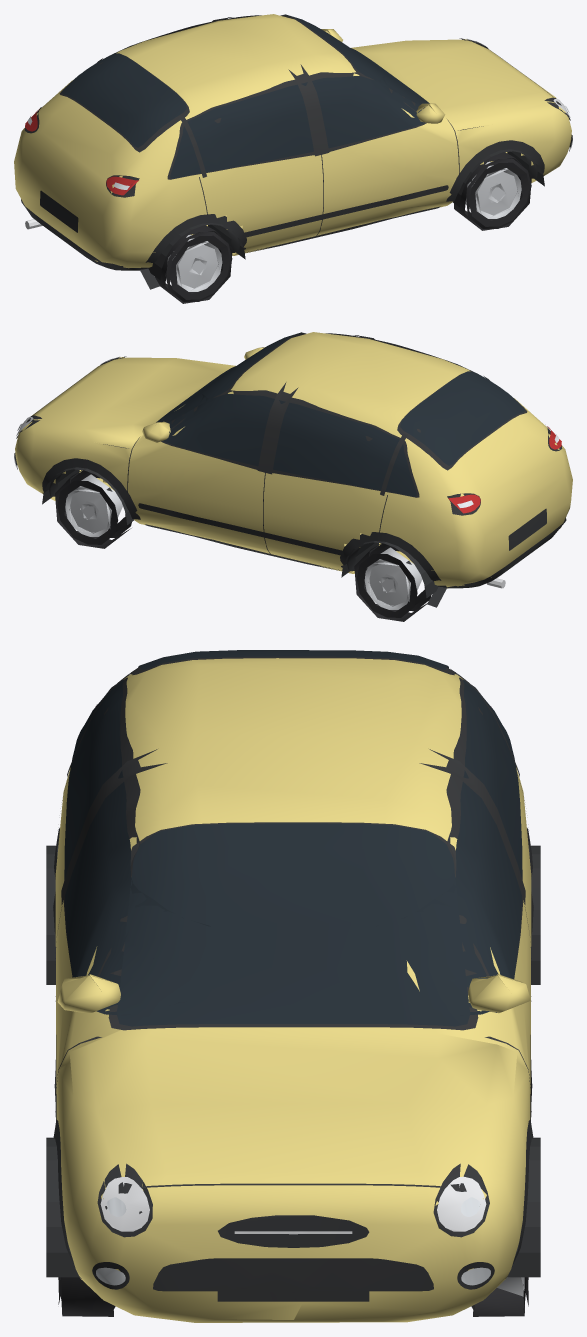
File: mistral_far.glb
The picture shows the model from 3 angles, top to bottom: view 1: azimuth 30°, elevation 25°; view 2: azimuth 150°, elevation 25°; view 3: azimuth 270°, elevation 25°; orthographic projection. The views are drawn at different scales.
Parts seen in each view (by area): view 1: Body, Glass-1, RearGlass, WheelFR, WheelRR, Windshield, WinFrame-1, ArchTrim-1.001, ArchTrim-1, Bpillar-1, Rub-1, ArchLiner.003 (+7 smaller); view 2: Body, Glass1, RearGlass, WheelFL, WheelRL, Windshield, WinFrame1, ArchTrim1.001, ArchTrim1, Bpillar1, Rub1, ArchLiner.002 (+7 smaller); view 3: Body, Windshield, Glass-1, Glass1, Intake, Grille, HeadReflector, WsFrame, ArchLiner, ArchLiner.001, HeadBezel, RearGlass (+14 smaller).
Part boxes in pixels (bbox=[...]): Body: bbox=[14, 14, 571, 268]; Glass-1: bbox=[170, 76, 424, 178]; RearGlass: bbox=[62, 53, 186, 147]; WheelFR: bbox=[454, 152, 531, 230]; WheelRR: bbox=[154, 225, 232, 303]; Windshield: bbox=[284, 14, 429, 107]; WinFrame-1: bbox=[167, 72, 426, 179]; ArchTrim-1.001: bbox=[140, 214, 246, 289]; ArchTrim-1: bbox=[446, 140, 544, 201]; Bpillar-1: bbox=[288, 64, 329, 156]; Rub-1: bbox=[243, 185, 448, 237]; ArchLiner.003: bbox=[148, 223, 245, 280]; Body: bbox=[15, 332, 572, 588]; Glass1: bbox=[162, 394, 416, 496]; RearGlass: bbox=[400, 371, 524, 465]; WheelFL: bbox=[55, 470, 131, 548]; WheelRL: bbox=[354, 543, 431, 621]; Windshield: bbox=[156, 332, 302, 422]; WinFrame1: bbox=[161, 390, 419, 497]; ArchTrim1.001: bbox=[340, 532, 446, 607]; ArchTrim1: bbox=[42, 458, 140, 519]; Bpillar1: bbox=[257, 382, 298, 474]; Rub1: bbox=[138, 503, 343, 555]; ArchLiner.002: bbox=[341, 541, 438, 597]; Body: bbox=[55, 658, 531, 1322]; Windshield: bbox=[116, 823, 470, 1026]; Glass-1: bbox=[64, 680, 210, 1015]; Glass1: bbox=[376, 680, 522, 1015]; Intake: bbox=[153, 1258, 433, 1291]; Grille: bbox=[218, 1215, 369, 1247]; HeadReflector: bbox=[100, 1176, 486, 1231]; WsFrame: bbox=[108, 822, 478, 1030]; ArchLiner: bbox=[507, 1137, 540, 1277]; ArchLiner.001: bbox=[46, 1137, 79, 1277]; HeadBezel: bbox=[97, 1163, 489, 1237]; RearGlass: bbox=[138, 650, 448, 669].
Size of the model in its own units: 3.89 by 1.49 by 1.76.
